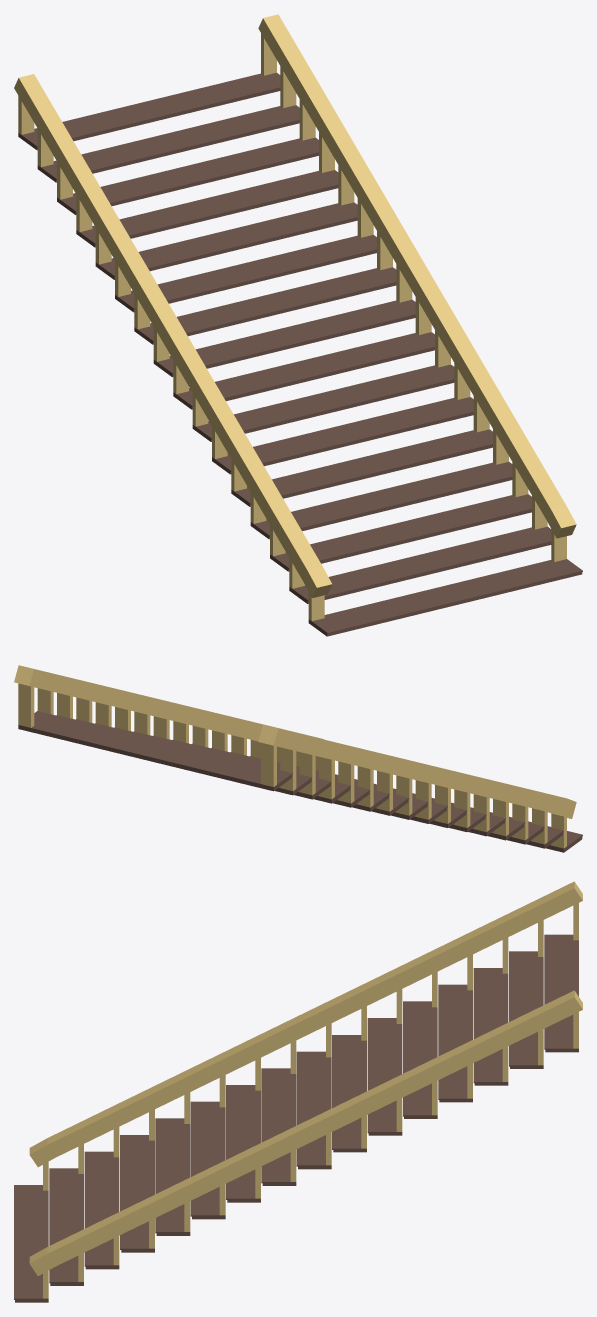
The model's file is upperStairs.fbx.
The picture shows the model from 3 angles, top to bottom: view 1: azimuth 30°, elevation 25°; view 2: azimuth 150°, elevation 25°; view 3: azimuth 270°, elevation 25°; orthographic projection. The views are drawn at different scales.
Visible parts, largest first — view 1: StairTile.003; view 2: StairTile.003; view 3: StairTile.003.
Boxes of the visible parts, x1,y1,x2,y2 form: StairTile.003: (14, 14, 582, 636); StairTile.003: (14, 665, 582, 852); StairTile.003: (14, 881, 582, 1302).
Size of the model in its own units: 1221 by 1506 by 2535.
